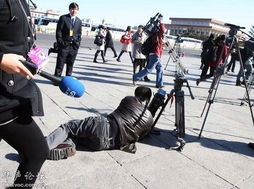falling: (39, 80, 162, 165)
